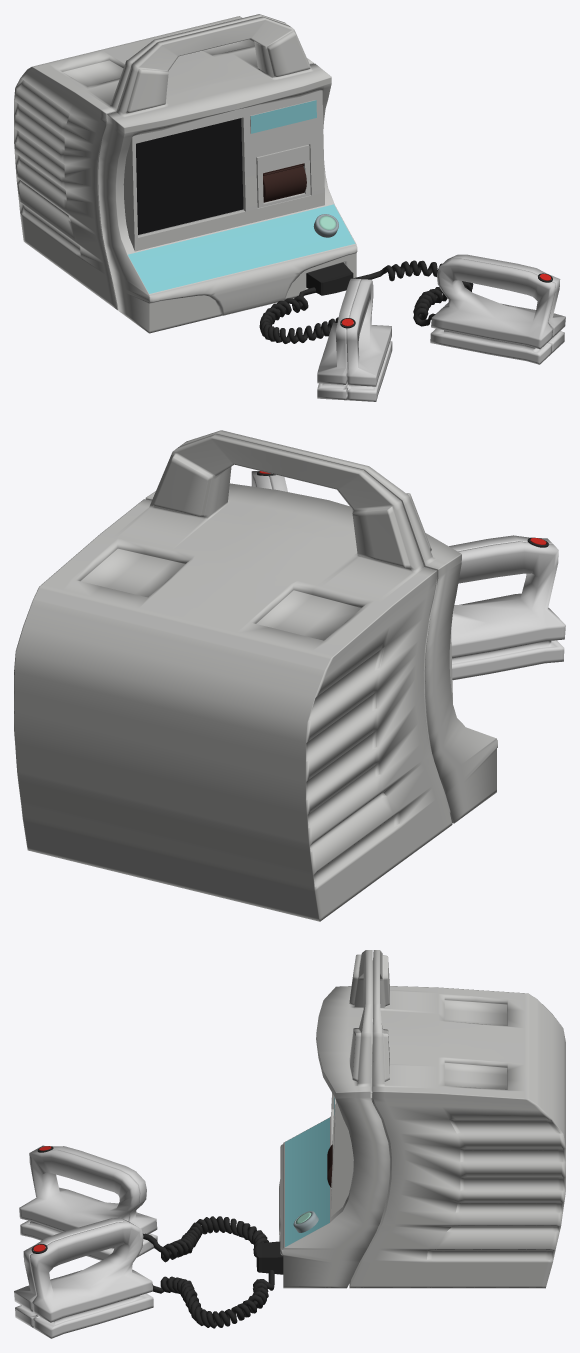
The model's file is defibrillator.fbx.
The picture shows the model from 3 angles, top to bottom: view 1: azimuth 30°, elevation 25°; view 2: azimuth 150°, elevation 25°; view 3: azimuth 270°, elevation 25°; orthographic projection. The views are drawn at different scales.
Visible parts, largest first — view 1: defibrillator_main, defibrillator_middle, defibrillator_paddle_1, defibrillator_paddle_2, defibrillator_wires, defibrillator_glass, defibrillator_wire_base; view 2: defibrillator_main, defibrillator_paddle_2; view 3: defibrillator_main, defibrillator_paddle_1, defibrillator_paddle_2, defibrillator_wires, defibrillator_middle, defibrillator_wire_base.
Boxes of the visible parts, <box> form: defibrillator_main: <box>14,14,357,333</box>; defibrillator_middle: <box>123,90,324,251</box>; defibrillator_paddle_1: <box>430,254,565,364</box>; defibrillator_paddle_2: <box>317,278,392,401</box>; defibrillator_wires: <box>259,260,473,343</box>; defibrillator_glass: <box>263,163,306,202</box>; defibrillator_wire_base: <box>306,262,353,295</box>; defibrillator_main: <box>14,430,497,921</box>; defibrillator_paddle_2: <box>449,535,565,680</box>; defibrillator_main: <box>279,950,565,1288</box>; defibrillator_paddle_1: <box>14,1217,153,1338</box>; defibrillator_paddle_2: <box>19,1145,157,1260</box>; defibrillator_wires: <box>143,1216,274,1328</box>; defibrillator_middle: <box>331,1092,372,1216</box>; defibrillator_wire_base: <box>256,1241,283,1274</box>.
Size of the model in its own units: 53.97 by 42.68 by 80.98.
Materials: 9 (1 with a texture image).
